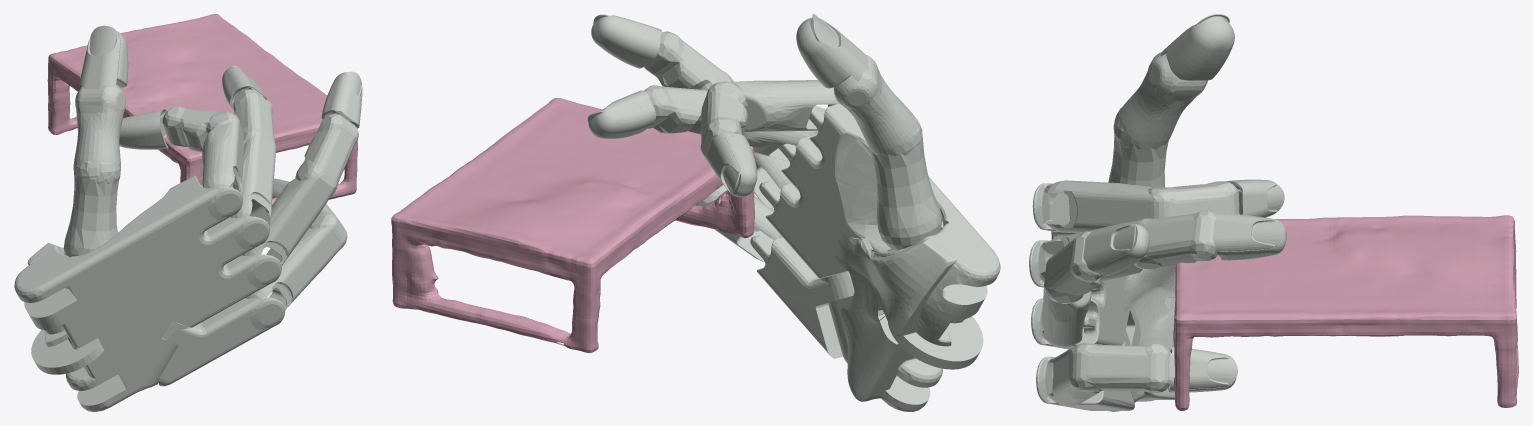
3 views of the same model, side by side, from view 1: azimuth 30°, elevation 25°; view 2: azimuth 150°, elevation 25°; view 3: azimuth 270°, elevation 25° (orthographic). The views are drawn at different scales.
Visible parts, largest first — view 1: hand, world; view 2: hand, world; view 3: hand, world.
Boxes of the visible parts, x1,y1,x2,y2 form: hand: [14, 25, 362, 411]; world: [47, 14, 357, 205]; hand: [587, 14, 1000, 411]; world: [391, 98, 754, 353]; hand: [1029, 14, 1286, 411]; world: [1173, 215, 1518, 410].
Bounding box in the file's own units: 0.1916 × 0.1764 × 0.1873.
